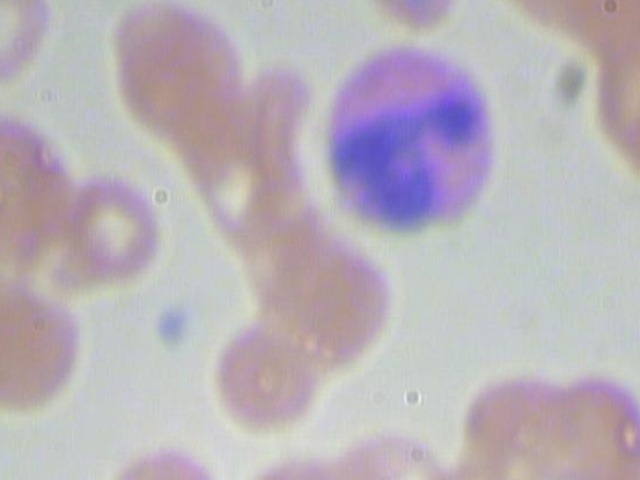Platelets: (150, 296, 196, 356)
WBC: (311, 33, 516, 245)
